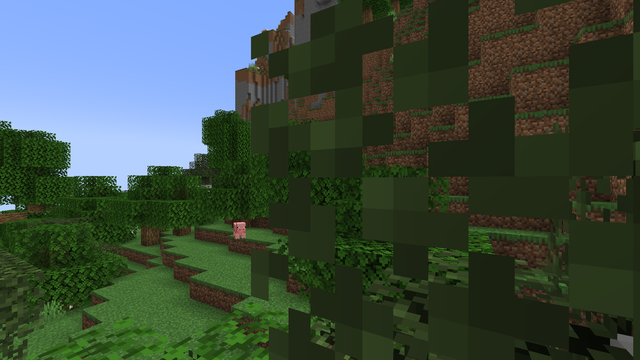cochons: (228, 221, 249, 239)
